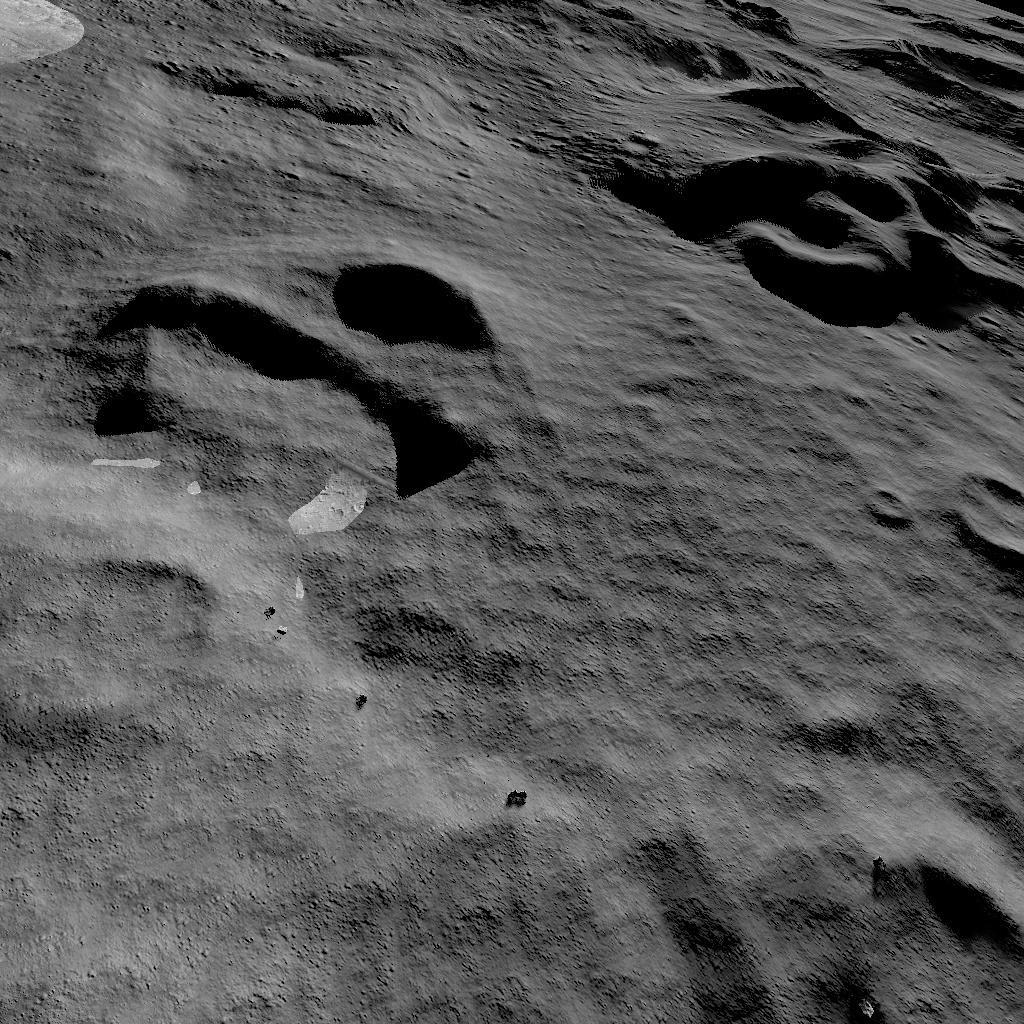Boulders: (0, 0, 83, 66)
Crater: (539, 0, 1024, 320), (76, 236, 507, 486), (804, 810, 1024, 1024), (0, 540, 225, 724), (946, 440, 1024, 590), (846, 463, 917, 526)
Plan surface: (539, 338, 785, 1024), (0, 733, 495, 1024)
